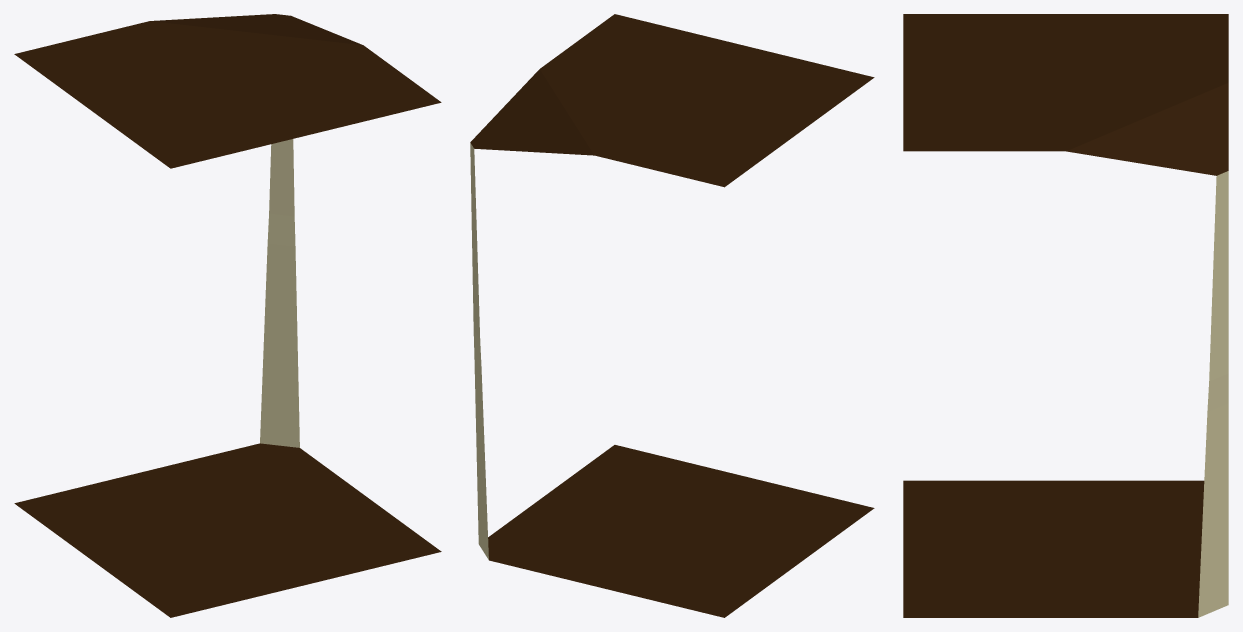
Rendered from Corner_Outward.fbx.
The picture shows the model from 3 angles, left to right: view 1: azimuth 30°, elevation 25°; view 2: azimuth 150°, elevation 25°; view 3: azimuth 270°, elevation 25°; orthographic projection. The views are drawn at different scales.
Parts seen in each view (by area): view 1: Corner_Open; view 2: Corner_Open; view 3: Corner_Open.
Boxes of the visible parts, left/top/right/bottom form: Corner_Open: left=14, top=14, right=441, bottom=617; Corner_Open: left=470, top=14, right=874, bottom=617; Corner_Open: left=903, top=14, right=1228, bottom=617.
Size of the model in its own units: 2 by 3.17 by 2.
